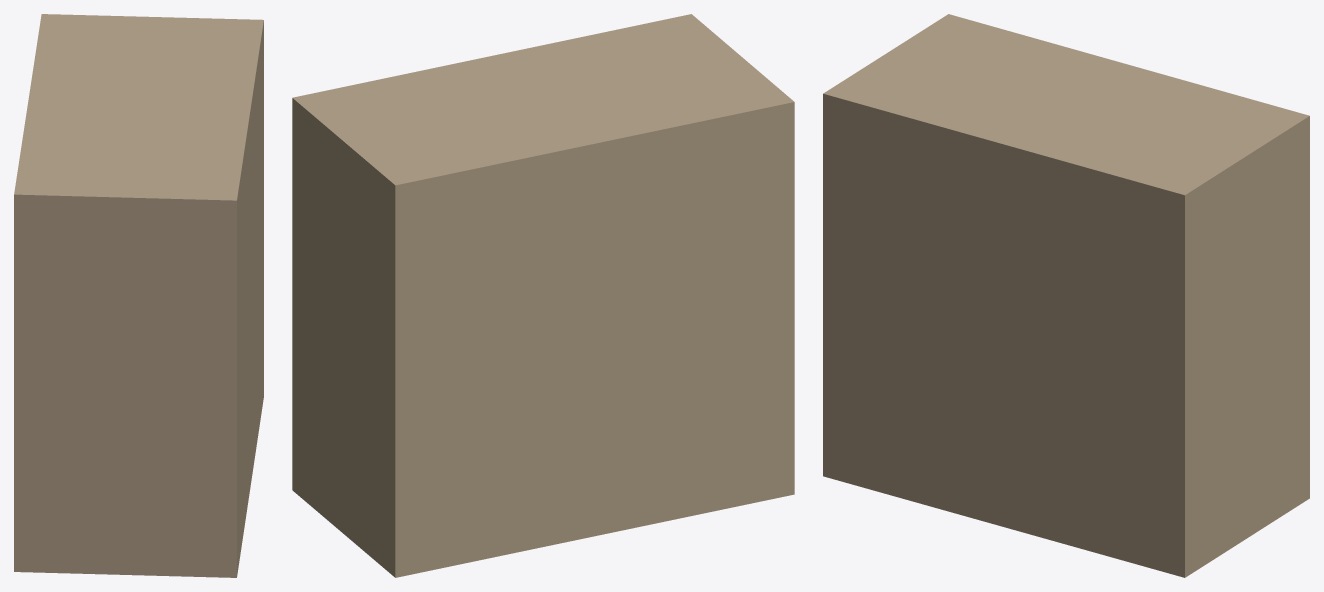
The model's file is bld_100478261.dae.
The picture shows the model from 3 angles, left to right: view 1: azimuth 30°, elevation 25°; view 2: azimuth 150°, elevation 25°; view 3: azimuth 270°, elevation 25°; orthographic projection. The views are drawn at different scales.
Parts seen in each view (by area): view 1: bld_100478261; view 2: bld_100478261; view 3: bld_100478261.
Boxes of the visible parts, x1,y1,x2,y2 form: bld_100478261: [14, 14, 263, 577]; bld_100478261: [292, 14, 794, 577]; bld_100478261: [823, 14, 1309, 577].
Size of the model in its own units: 8.13 by 9.22 by 8.
